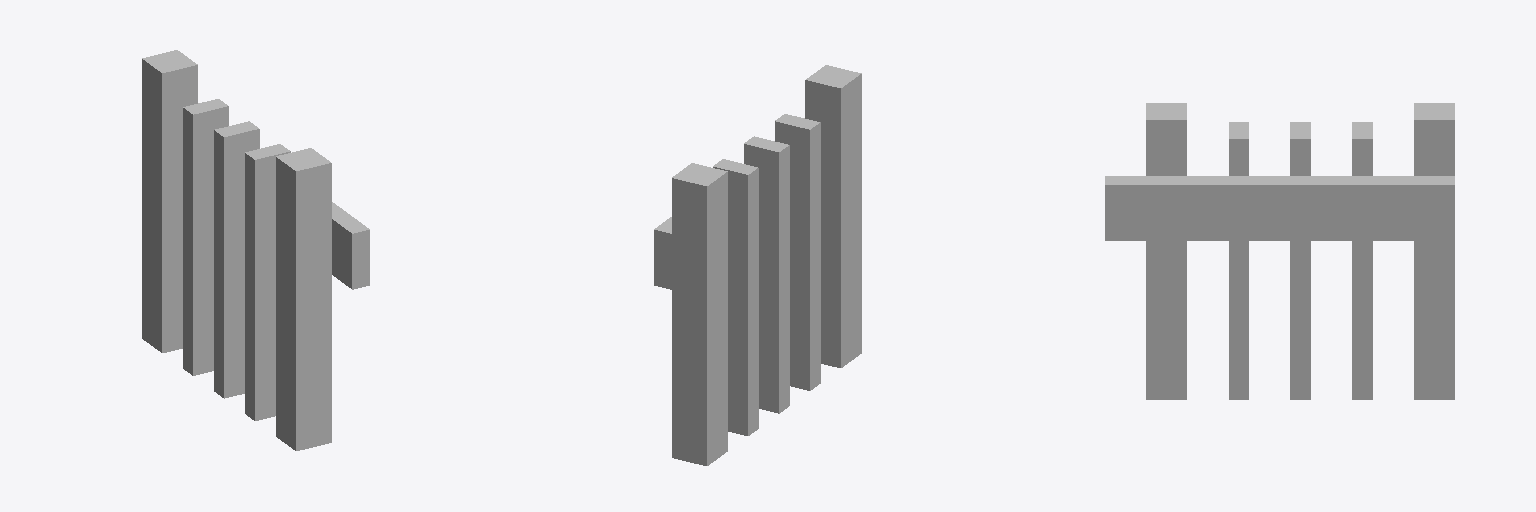
File: White Fence.obj
The picture shows the model from 3 angles: view 1: azimuth 30°, elevation 25°; view 2: azimuth 150°, elevation 25°; view 3: azimuth 270°, elevation 25°; orthographic projection.
Bounding box in the file's own units: 3 × 15 × 17.